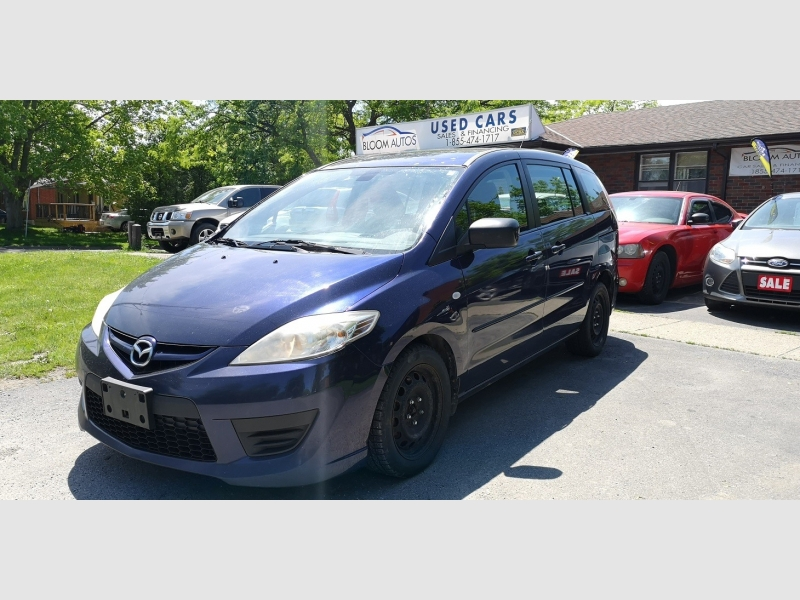Mazda3 Hatchback: (75, 148, 621, 489)
